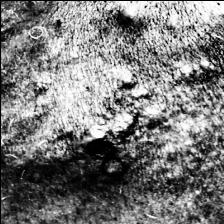Potentially Malignant Skin Tumors: (153, 56, 224, 92), (72, 134, 130, 176), (110, 98, 160, 132), (24, 75, 64, 105), (118, 62, 146, 87), (126, 0, 152, 25), (211, 0, 224, 23)
